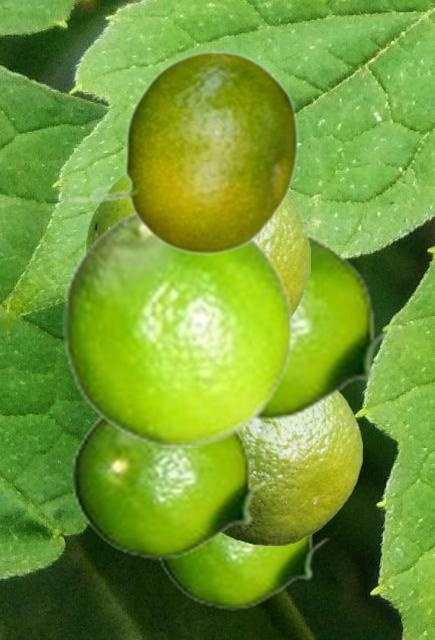calamansi: (62, 207, 294, 446), (66, 49, 298, 254), (85, 172, 309, 317), (70, 414, 272, 559), (257, 228, 398, 420), (222, 391, 361, 545), (154, 532, 330, 609)
